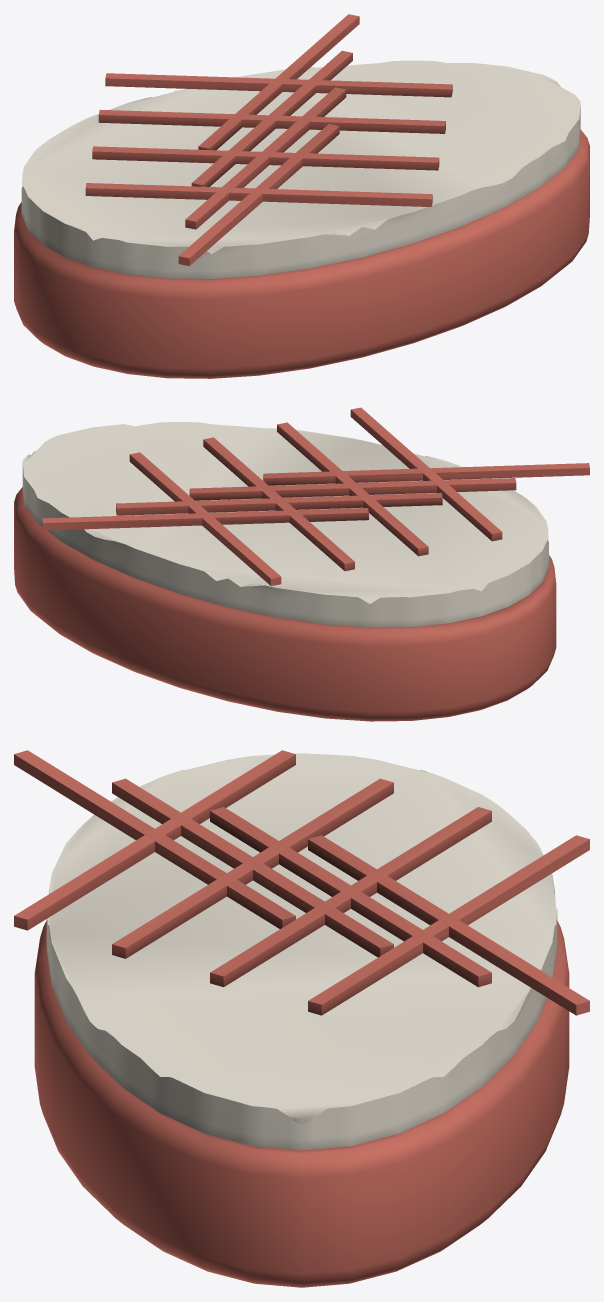
File: food_duck.glb
3 views of the same model, one above another, from view 1: azimuth 30°, elevation 25°; view 2: azimuth 150°, elevation 25°; view 3: azimuth 270°, elevation 25° (orthographic). The views are drawn at different scales.
Parts seen in each view (by area): view 1: PART; view 2: PART; view 3: PART.
Part boxes in pixels (x1,y1,x2,y2): PART: (14, 14, 589, 378); PART: (14, 407, 589, 721); PART: (14, 750, 589, 1287).
Bounding box in the file's own units: 0.2074 × 0.0569 × 0.1397.
